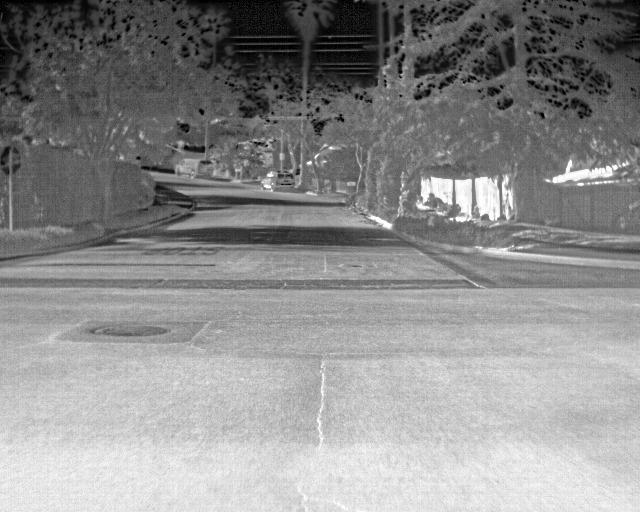car: (260, 161, 307, 201), (171, 152, 216, 187)
